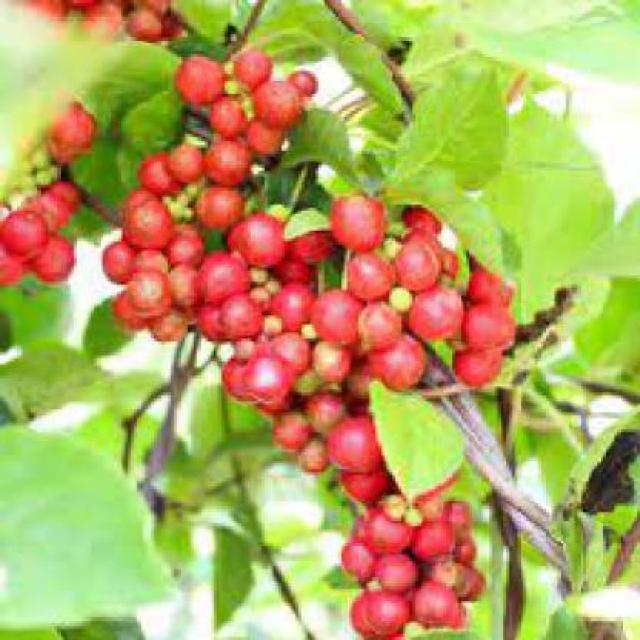RIPE: (314, 160, 488, 615), (145, 63, 285, 368), (17, 111, 74, 302)
